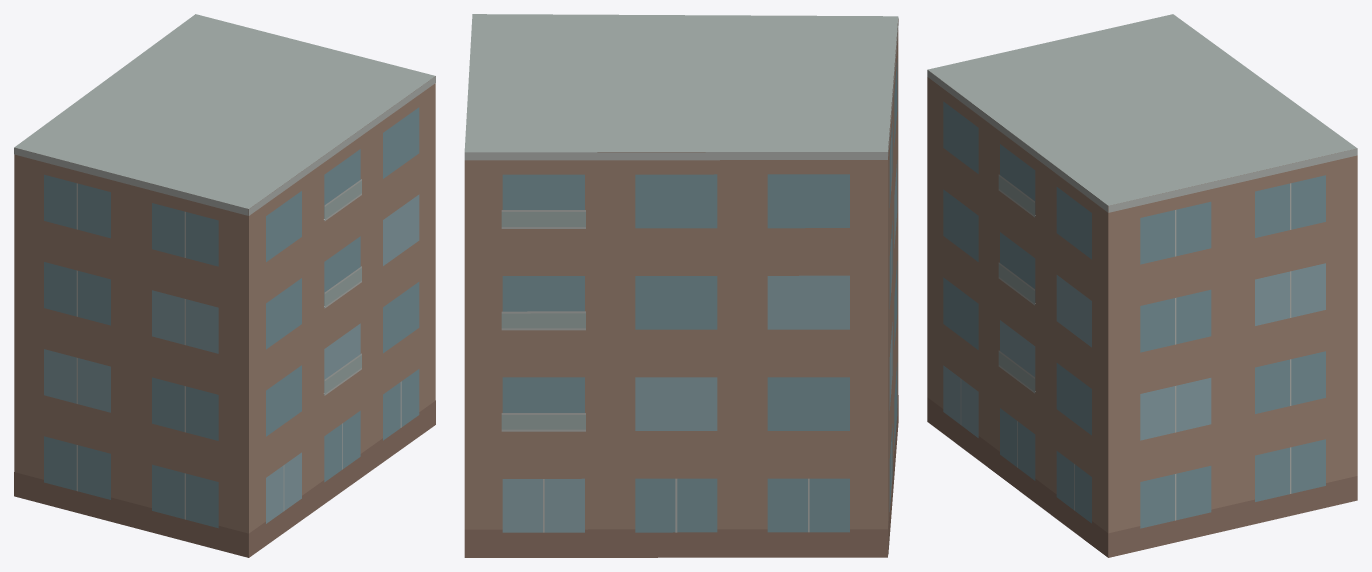
File: survey-upis-32792427.glb
3 views of the same model, side by side, from view 1: azimuth 30°, elevation 25°; view 2: azimuth 150°, elevation 25°; view 3: azimuth 270°, elevation 25° (orthographic). The views are drawn at different scales.
Parts seen in each view (by area): view 1: survey-upis-32792427.tmp; view 2: survey-upis-32792427.tmp; view 3: survey-upis-32792427.tmp.
Part boxes in pixels (x1,y1,x2,y2): survey-upis-32792427.tmp: (14,14,435,557); survey-upis-32792427.tmp: (464,14,898,557); survey-upis-32792427.tmp: (927,14,1357,557).
Bounding box in the file's own units: 14.21 × 12.15 × 13.47.
